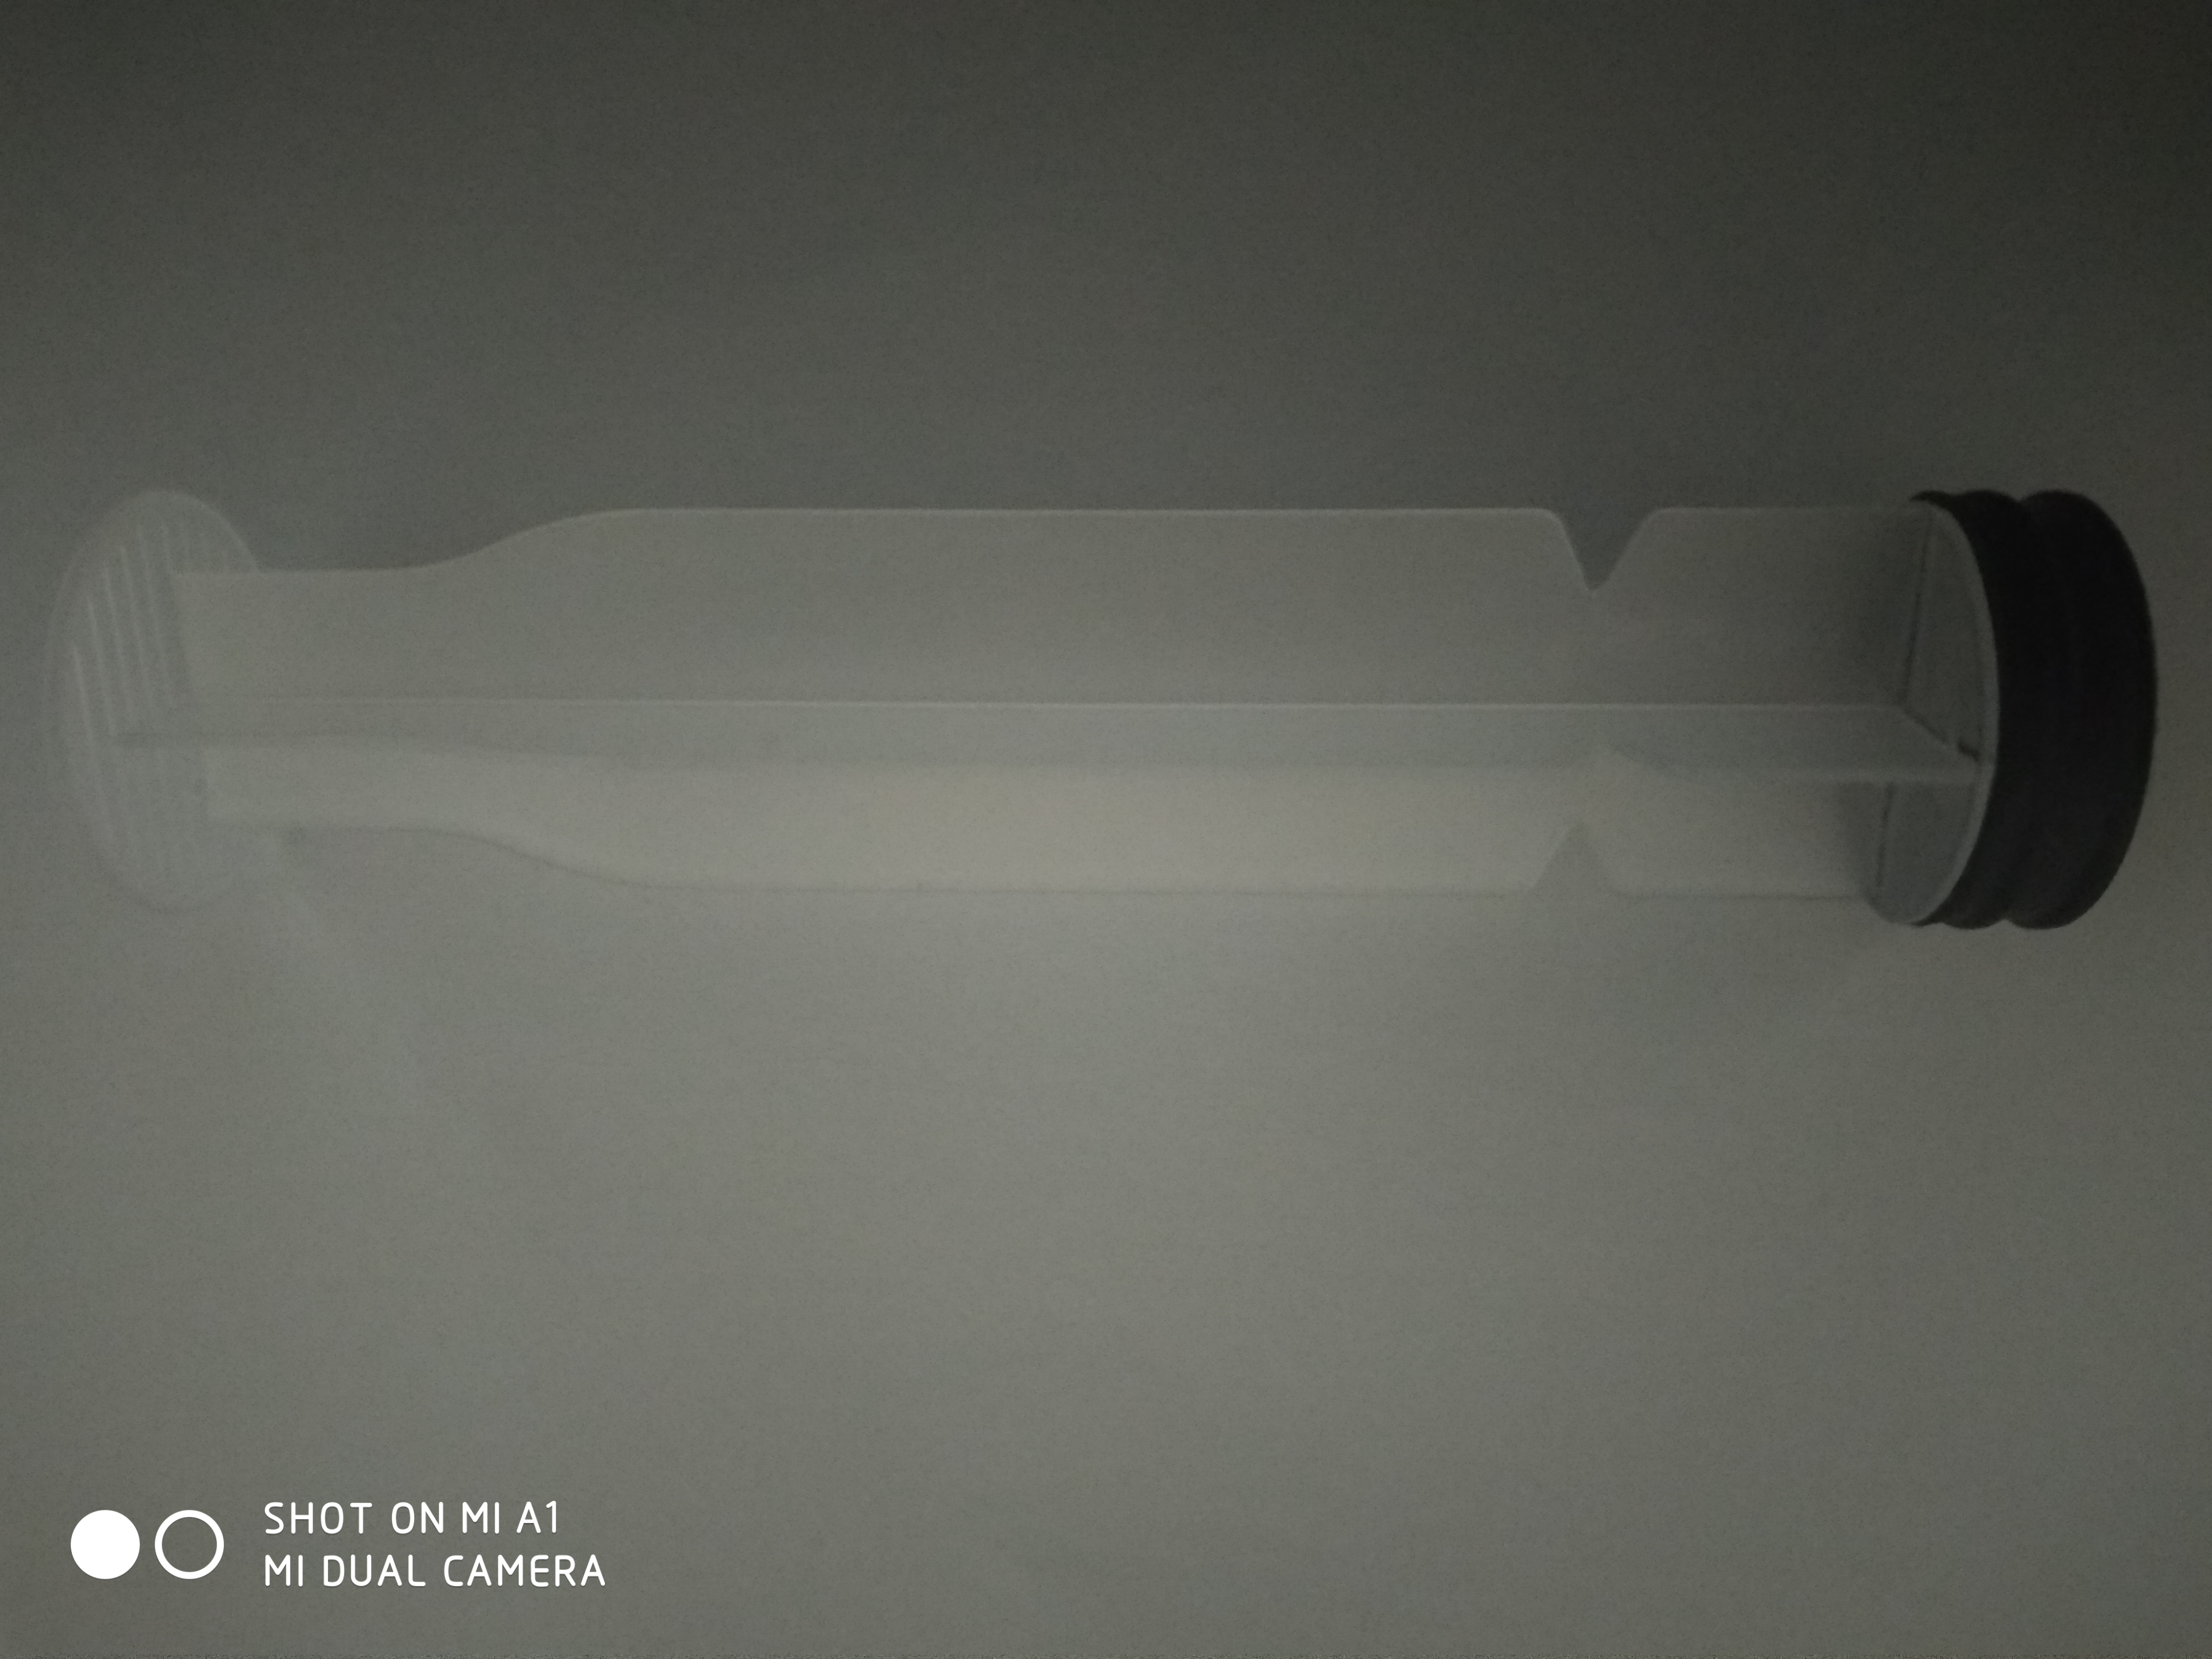plunger: (30, 476, 2174, 951)
